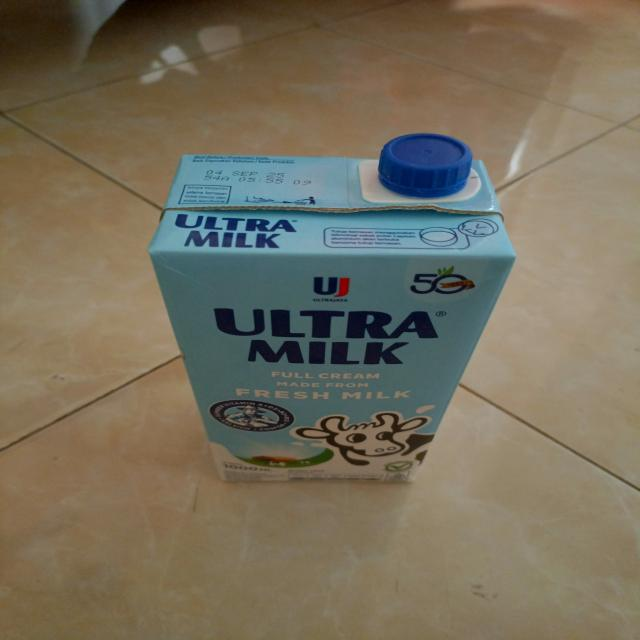ultramilk-full-cream: (148, 131, 517, 486)
